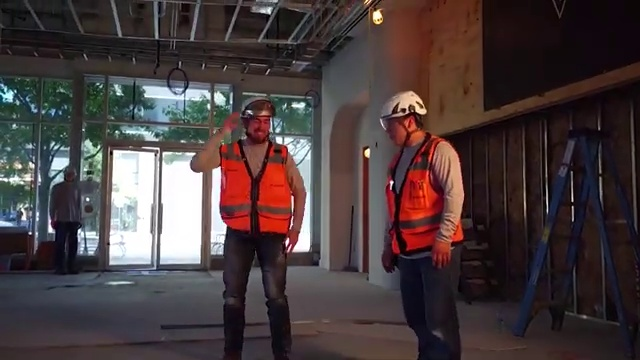helmet: (378, 90, 429, 125), (236, 92, 277, 117)
jacket: (376, 133, 472, 251), (210, 130, 298, 241)
